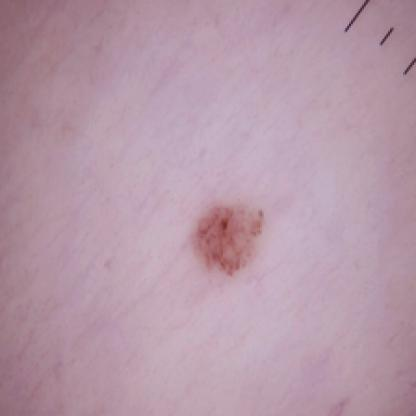benign: (191, 206, 273, 273)
